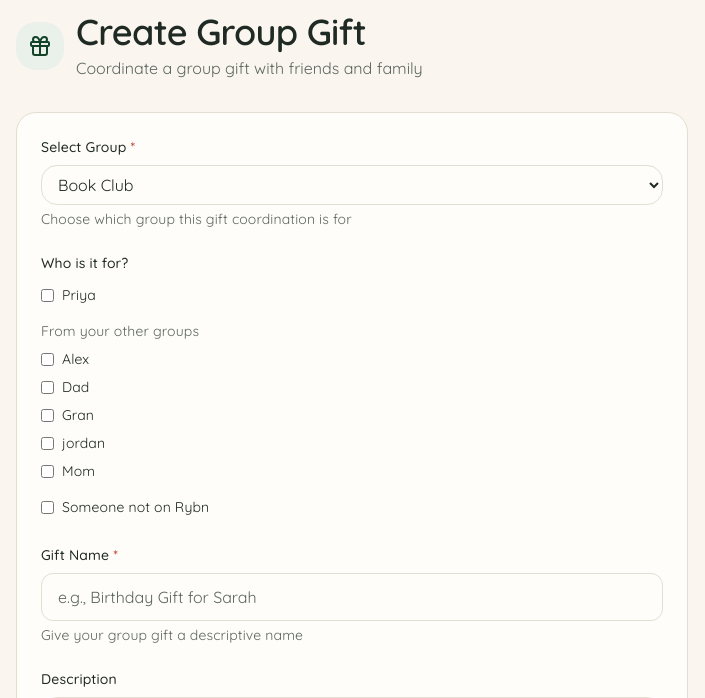
it: the create page's Who is it for? › says who will never see it once someone is ticked
Check: the element "Who is it for?" is shown, box [41,254,209,516]
Select "Rivera Family" in the dropdown. click: (352, 185)
box: [41,165,663,205]
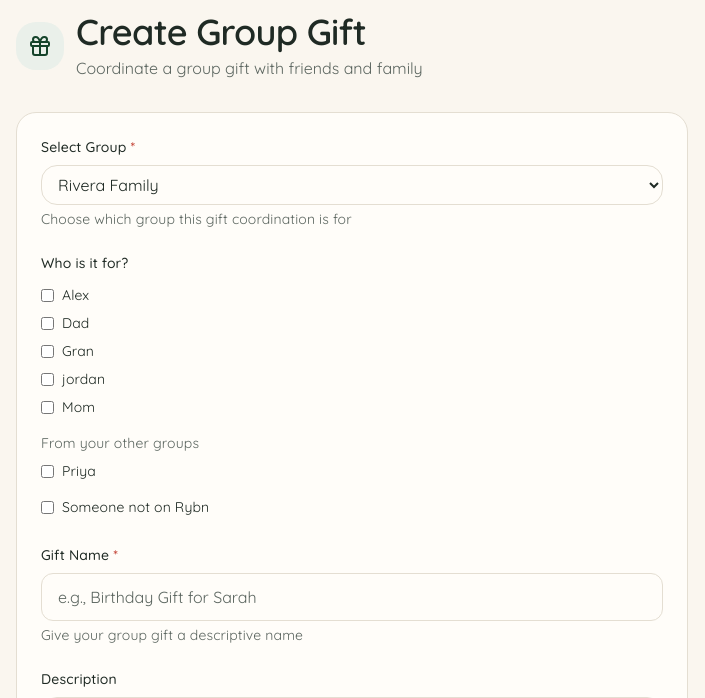
Check: the text "will never see this gift" is not shown
Click the checkbox labelled "Mom". click: click(48, 407)
box: [41,400,54,414]
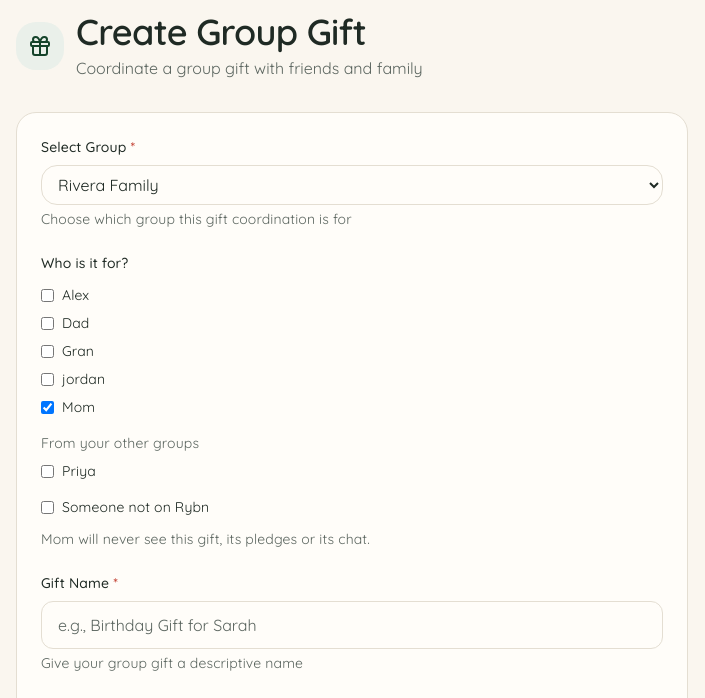
Click the checkbox labelled "Dad". click: click(48, 323)
box: [41,316,54,330]
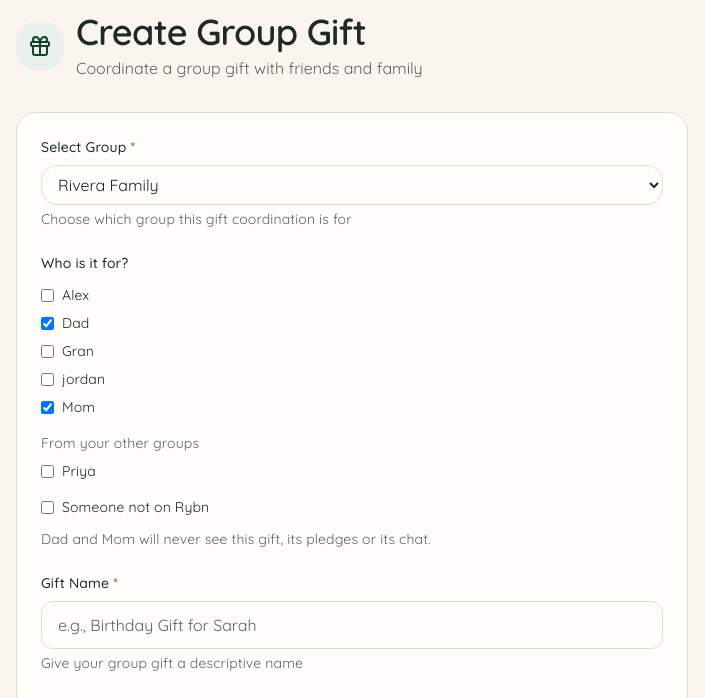
Check: the text "Dad and Mom will never see this gift, its pledges or its chat." is shown, box [41,530,431,548]
